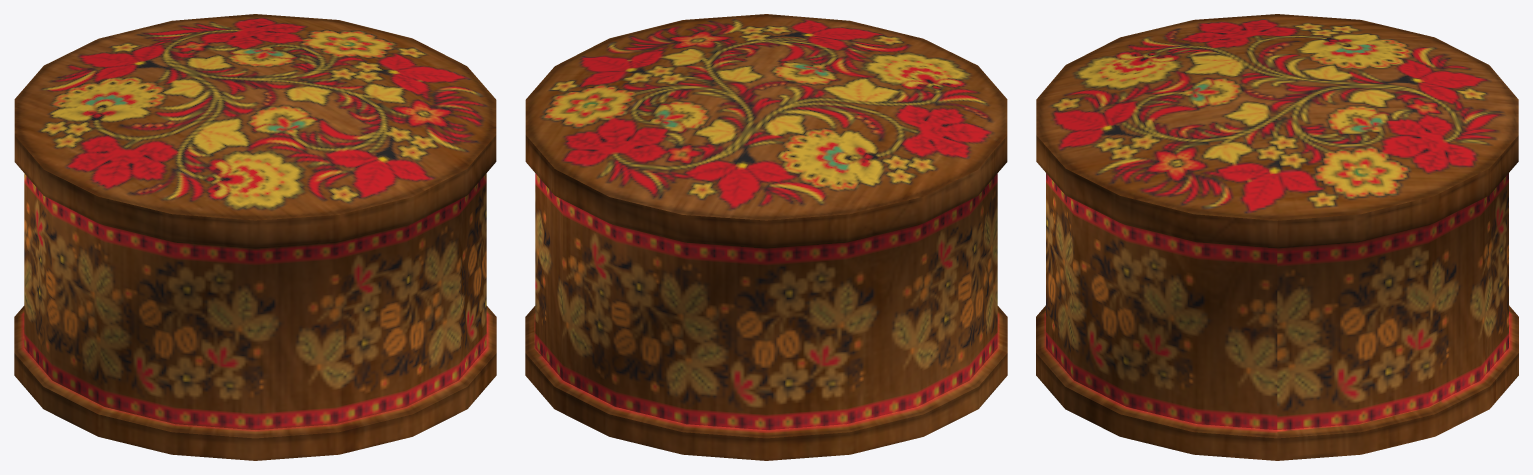
File: SM_Souvenirs01G.FBX
3 renders of one model, left to right at view 1: azimuth 30°, elevation 25°; view 2: azimuth 150°, elevation 25°; view 3: azimuth 270°, elevation 25°, orthographic.
Parts seen in each view (by area): view 1: SM_Souvenirs01G_LOD0; view 2: SM_Souvenirs01G_LOD0; view 3: SM_Souvenirs01G_LOD0.
Boxes of the visible parts, x1=… form: SM_Souvenirs01G_LOD0: x1=14, y1=14, x2=496, y2=460; SM_Souvenirs01G_LOD0: x1=525, y1=14, x2=1007, y2=460; SM_Souvenirs01G_LOD0: x1=1036, y1=14, x2=1518, y2=460.
Size of what is drawn, in the model's own units: 22.6 by 22.26 by 13.46.
